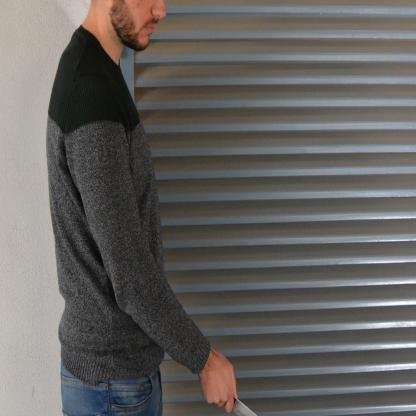knife: (210, 376, 276, 415)
